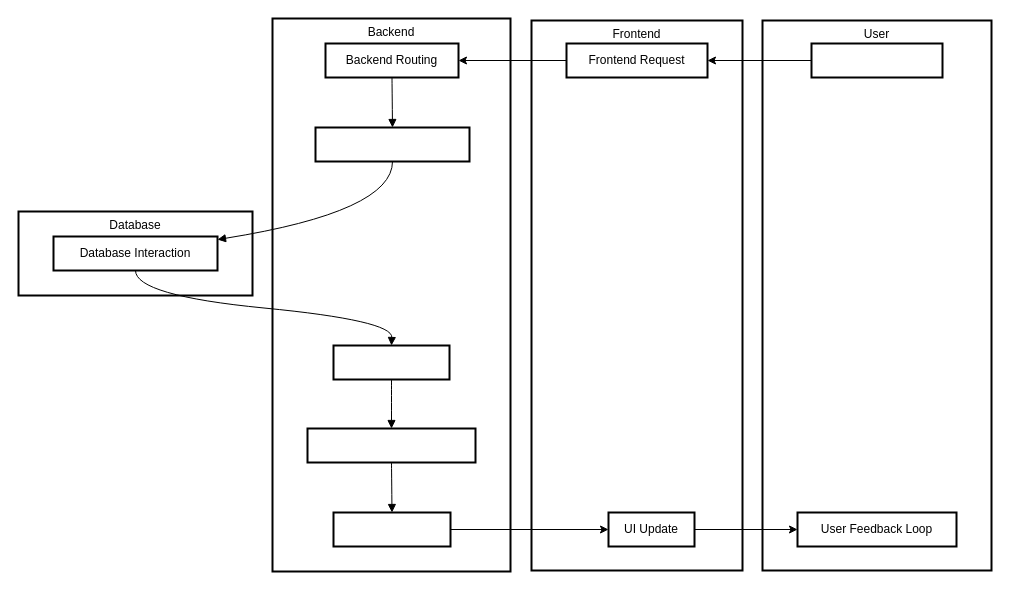
Image size: 1009x589. Some labels were removed from this diagram. Here are the shapes that lost their labels. From the top down, the centre of each, then its label:
At point (876, 60): "User Interaction".
At point (392, 144): "Backend Processing".
At point (391, 362): "Business Logic".
At point (391, 445): "Response Preparation".
At point (391, 529): "Response Sent".
